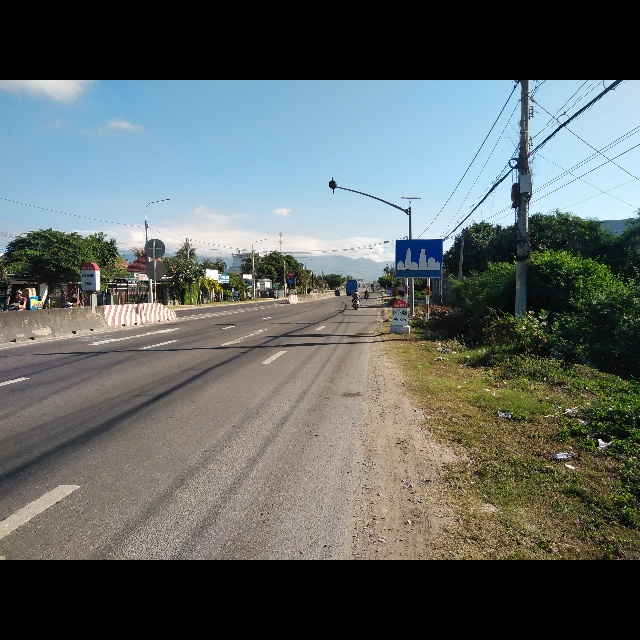Khu đông dân cư: (396, 238, 444, 277)
